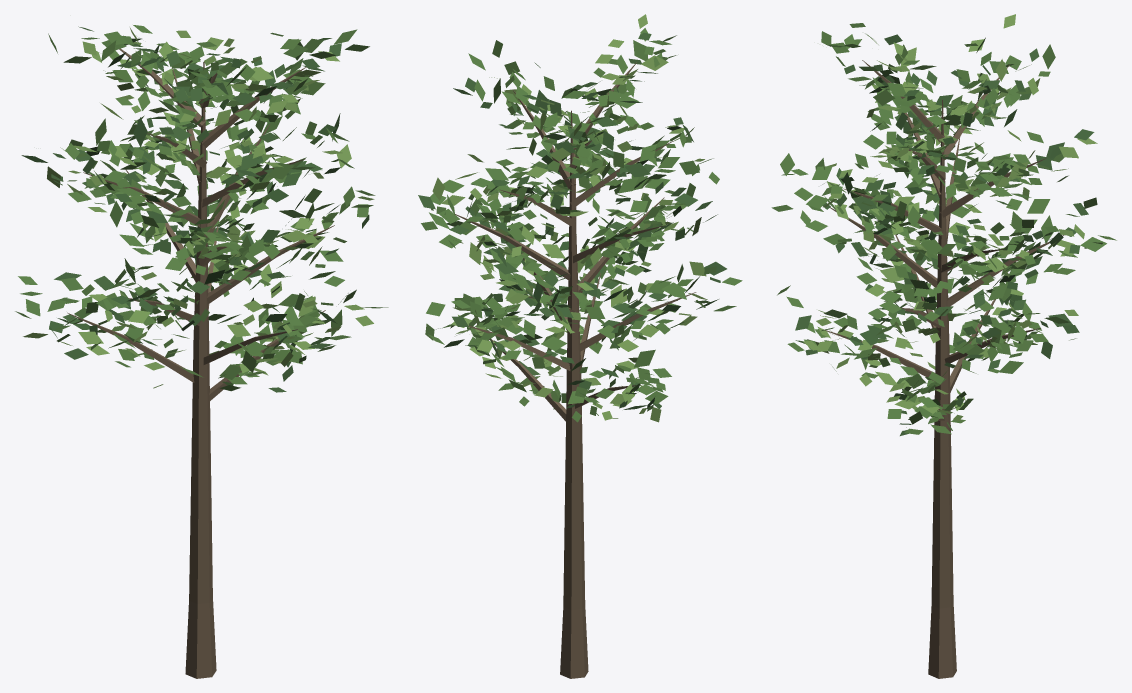
The model's file is original-tree-symbol.glb.
The picture shows the model from 3 angles, left to right: view 1: azimuth 30°, elevation 25°; view 2: azimuth 150°, elevation 25°; view 3: azimuth 270°, elevation 25°; orthographic projection. The views are drawn at different scales.
Visible parts, largest first — view 1: original-tree-symbol; view 2: original-tree-symbol; view 3: original-tree-symbol.
Part boxes in pixels (x1,y1,x2,y2): original-tree-symbol: (15, 25, 388, 678); original-tree-symbol: (418, 14, 742, 678); original-tree-symbol: (771, 14, 1116, 678).
Size of the model in its own units: 2 by 4 by 2.
